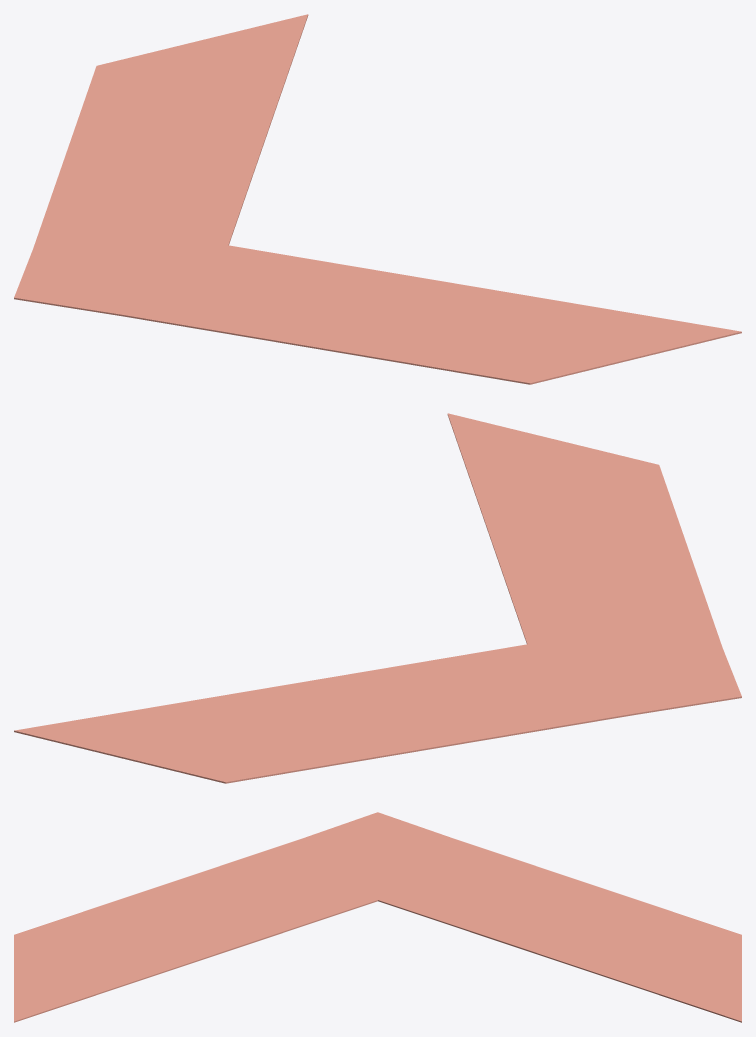
The model's file is _MTi_6x0R_simple_2__MTi_6x0R_simple_3.gltf.
The picture shows the model from 3 angles, top to bottom: view 1: azimuth 30°, elevation 25°; view 2: azimuth 150°, elevation 25°; view 3: azimuth 270°, elevation 25°; orthographic projection. The views are drawn at different scales.
Visible parts, largest first — view 1: mesh16097, mesh16093; view 2: mesh16097, mesh16100; view 3: mesh16097, mesh16096, mesh16095.
Part boxes in pixels (bbox=[...]): mesh16097: bbox=[14, 14, 740, 383]; mesh16093: bbox=[122, 315, 530, 384]; mesh16097: bbox=[15, 413, 741, 782]; mesh16100: bbox=[225, 714, 632, 783]; mesh16097: bbox=[14, 812, 741, 1021]; mesh16096: bbox=[378, 900, 741, 1022]; mesh16095: bbox=[14, 900, 377, 1022].
Size of the model in its own units: 0.00356 by 1e-05 by 0.00523.
